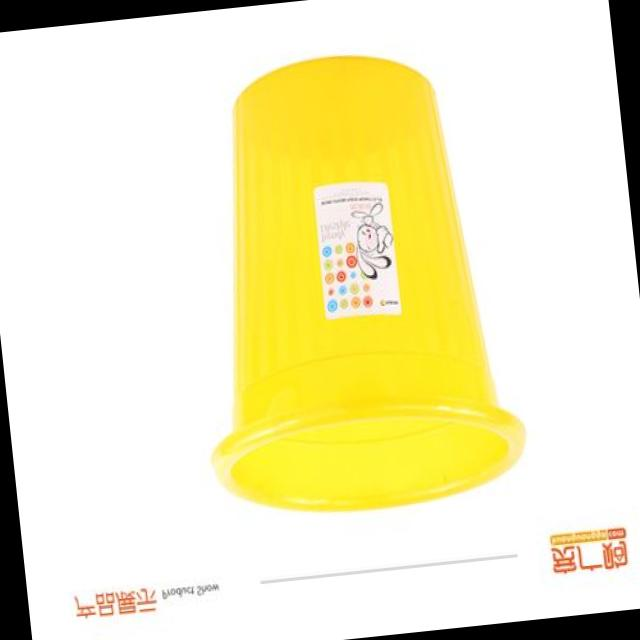dustbin: (167, 32, 538, 535)
